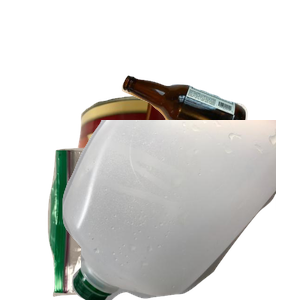glass: (119, 73, 300, 207)
metal: (69, 93, 265, 273)
plastic: (60, 120, 300, 300)
trash: (45, 144, 235, 300)
